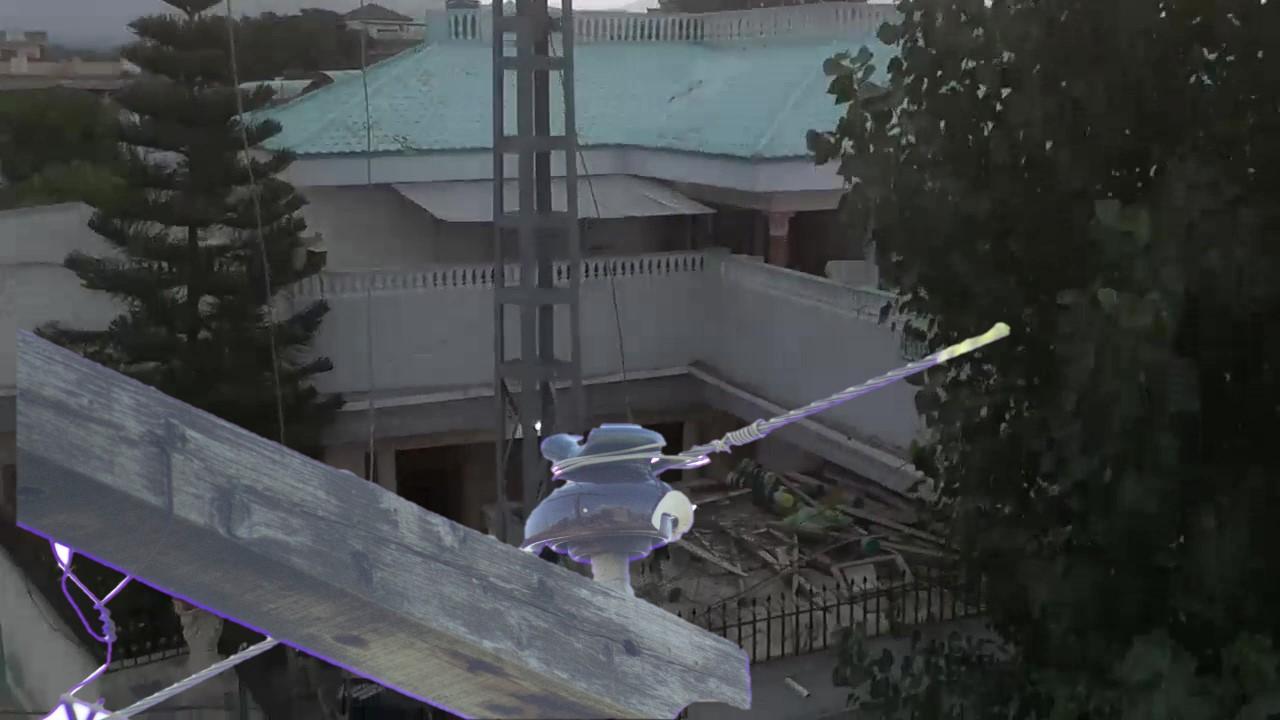defect_pin: (518, 413, 707, 560)
